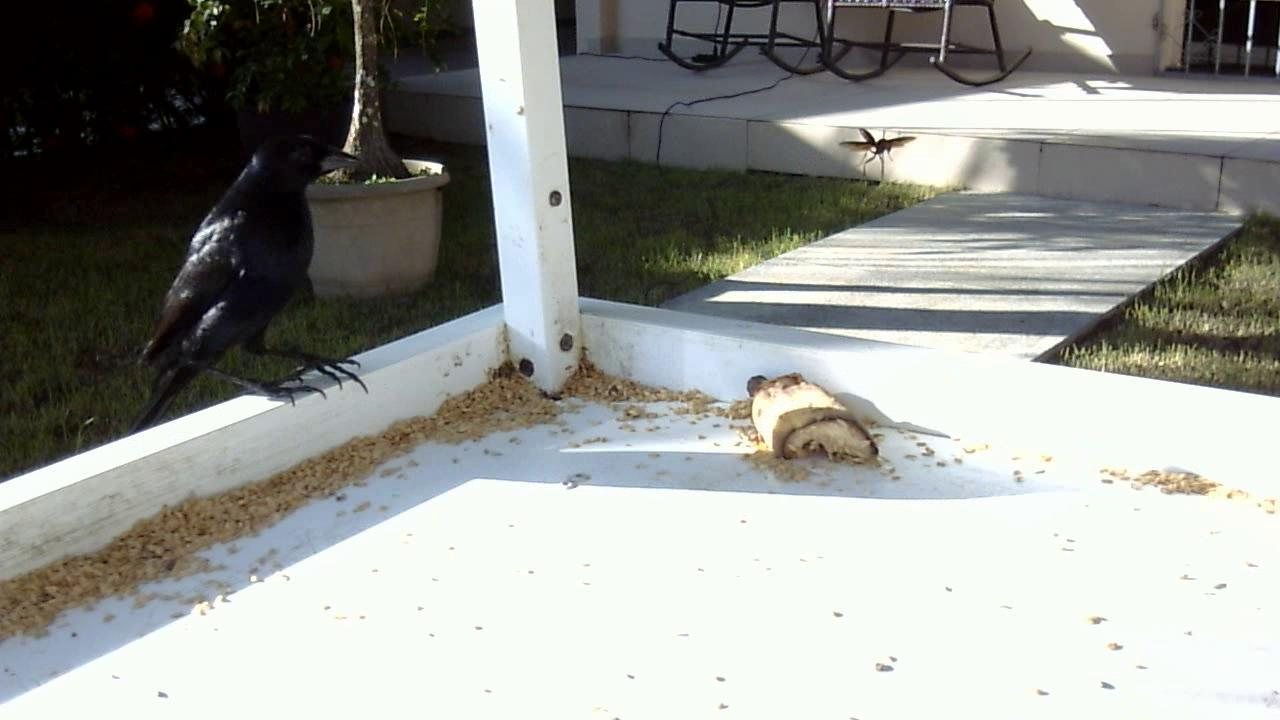chupim: (118, 127, 375, 434)
